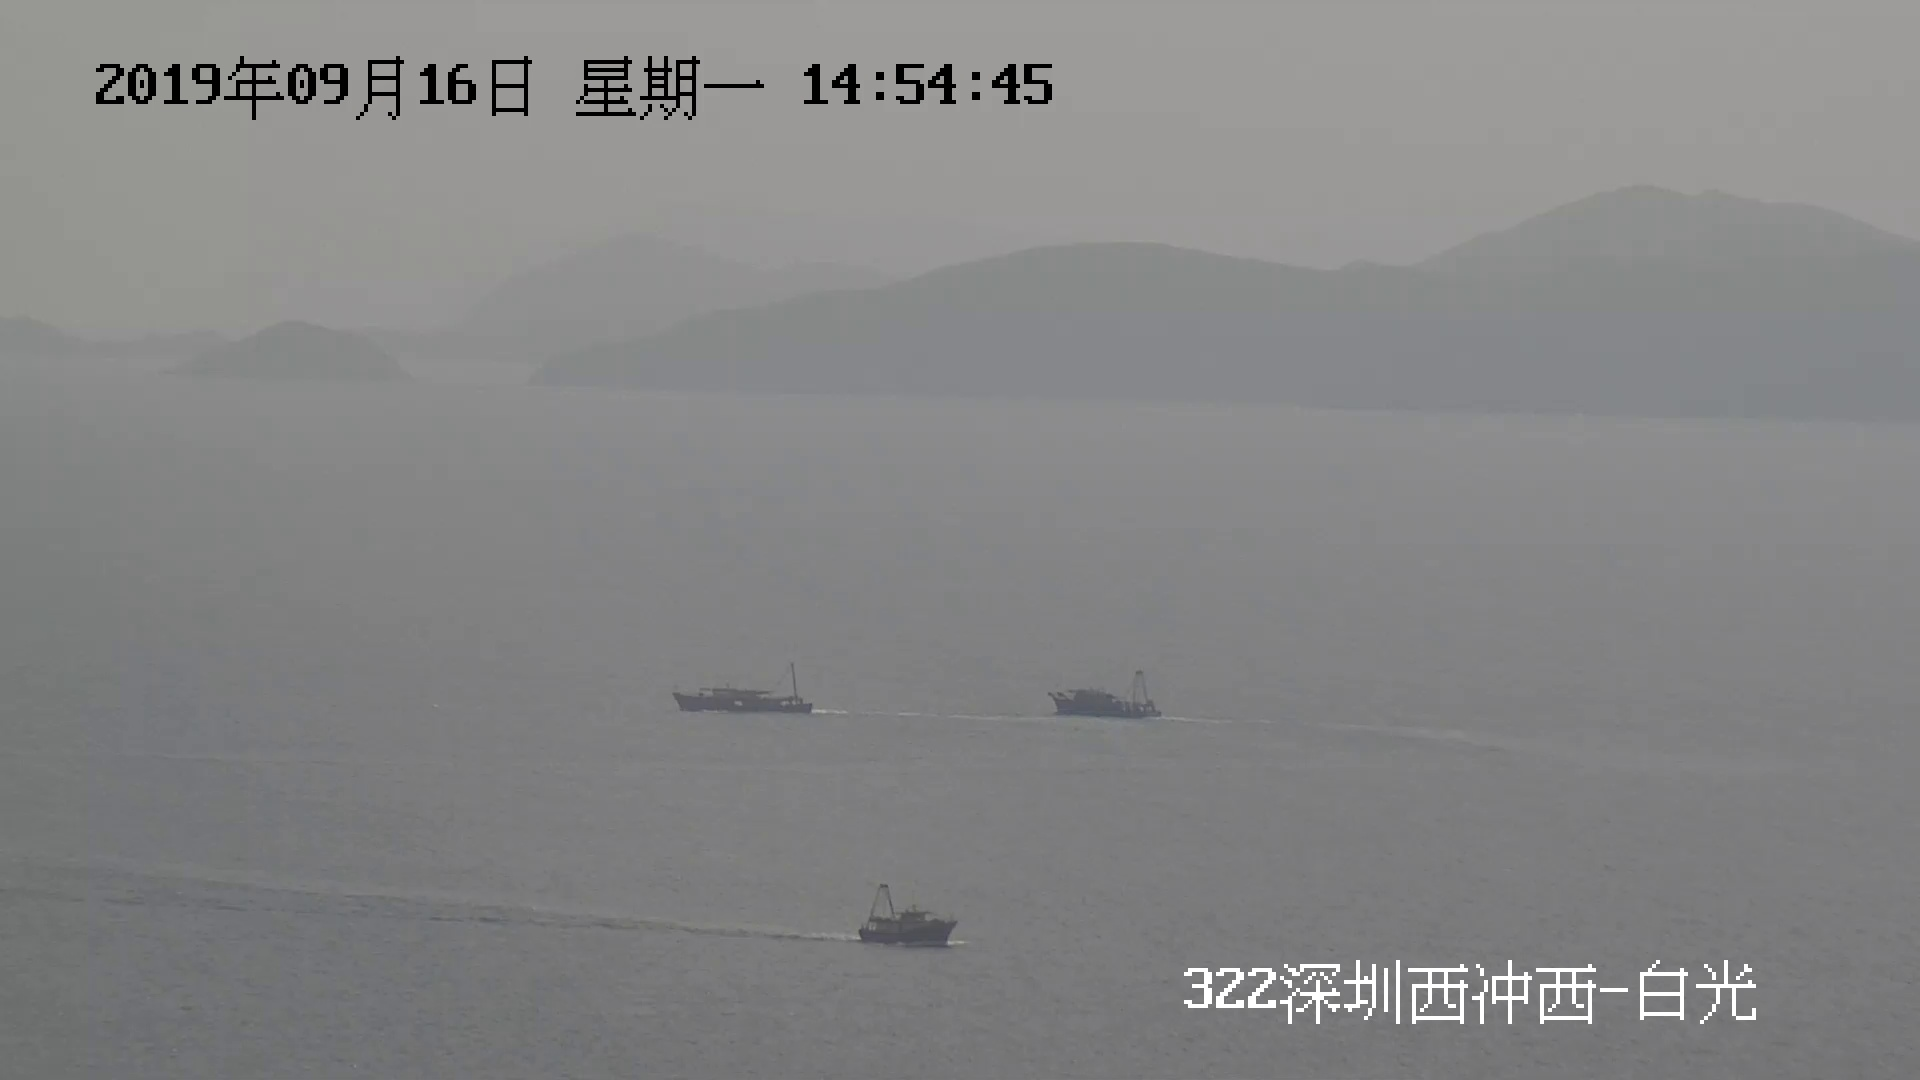ship: (673, 673, 822, 716), (857, 887, 963, 945), (1047, 673, 1160, 719)
